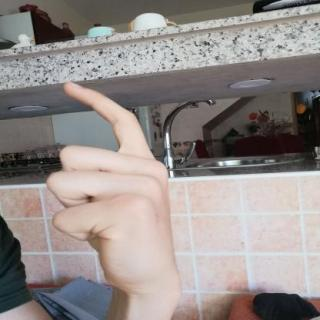RAA: (36, 73, 190, 295)
